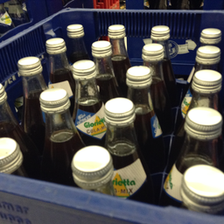soda: (103, 96, 152, 200), (38, 87, 87, 186), (125, 67, 166, 167), (68, 59, 109, 147)
